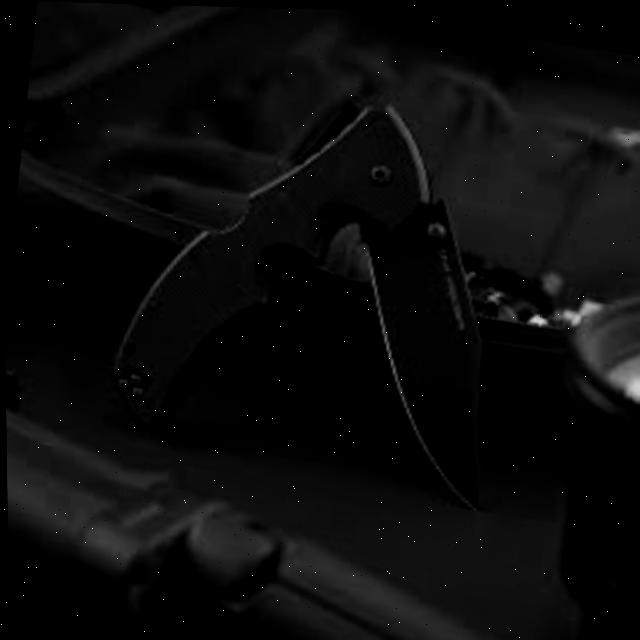Knife: (96, 59, 529, 510)
